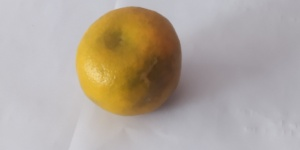BAD: (79, 5, 182, 116)
